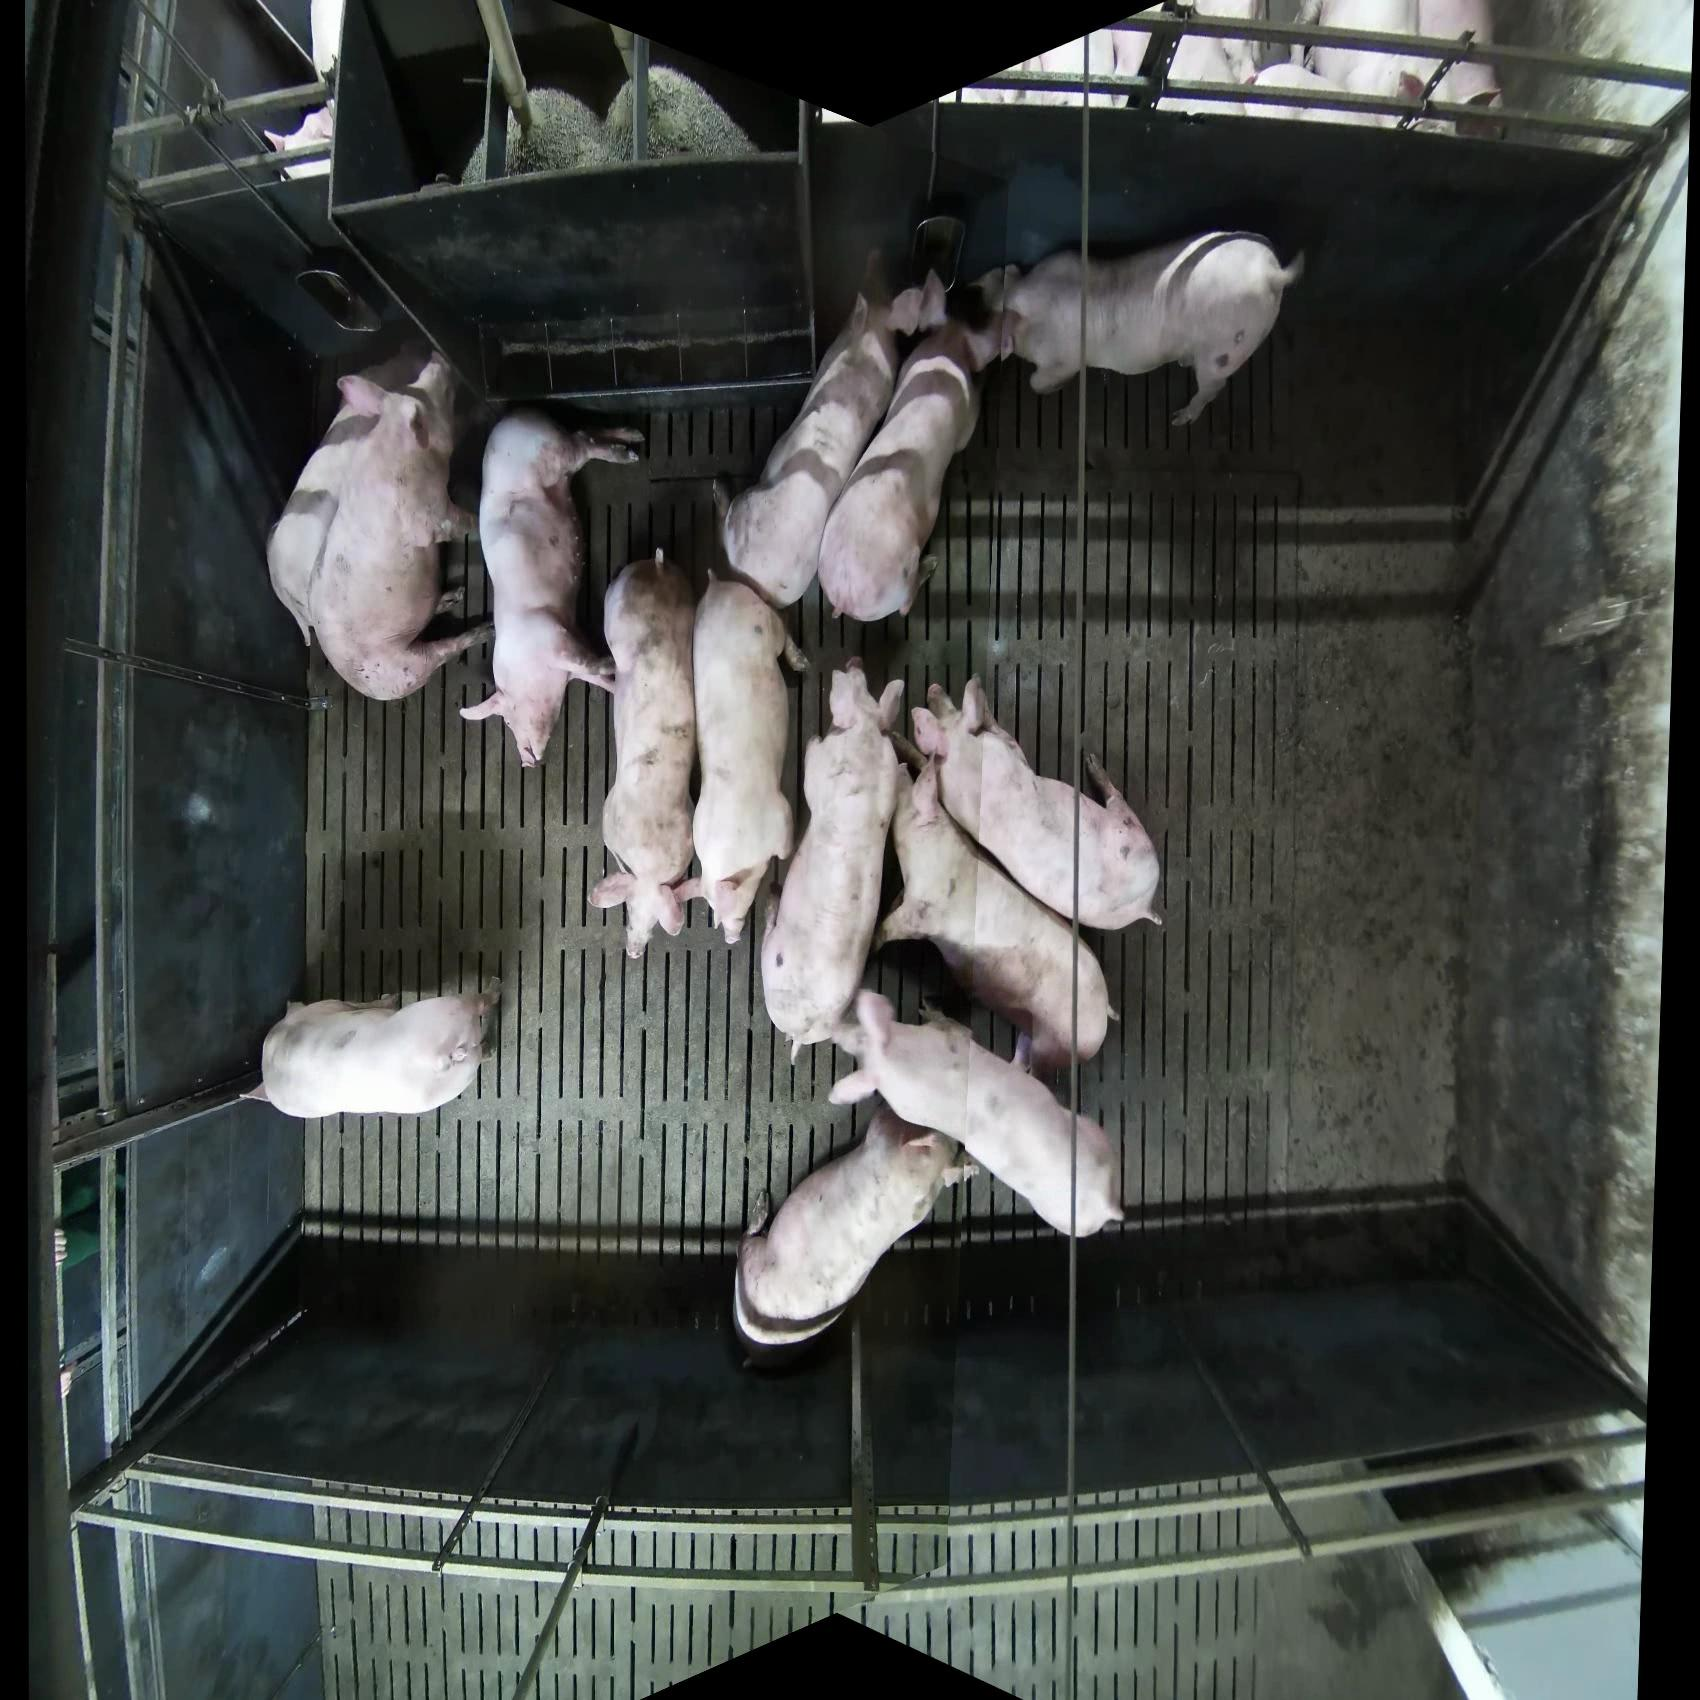pig: (719, 246, 950, 609), (873, 743, 1118, 1079), (266, 349, 493, 704), (827, 989, 1127, 1241), (816, 265, 1023, 623), (458, 402, 646, 771), (976, 227, 1308, 430), (911, 673, 1166, 934), (760, 655, 911, 1068), (732, 1105, 973, 1350), (677, 568, 810, 948), (588, 546, 697, 961), (240, 971, 504, 1119), (1242, 2, 1505, 139)
